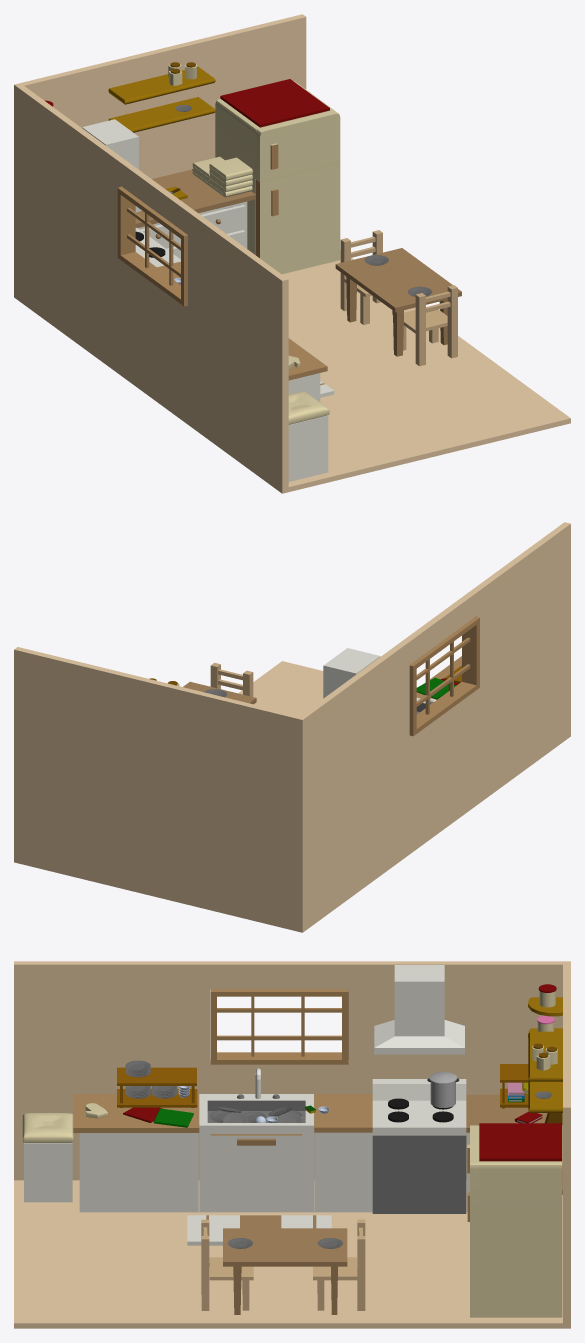
The model's file is kitchen.fbx.
3 renders of one model, top to bottom at view 1: azimuth 30°, elevation 25°; view 2: azimuth 150°, elevation 25°; view 3: azimuth 270°, elevation 25°, orthographic. The views are drawn at different scales.
Parts seen in each view (by area): view 1: pCube1, Kitchen_scene_group11_pCube7, pCube25, pCube8, Kitchen_scene_group12_group2_pCube18, pCube116, Kitchen_scene_group15_pCube26, pCube22, Kitchen_scene_group46_pCube118, pCube4, pCube5, Kitchen_scene_group9_pCube15 (+4 smaller); view 2: pCube1, pCube8, pCube17, Kitchen_scene_group15_pCube26; view 3: pCube1, Kitchen_scene_group11_pCube7, Kitchen_scene_group7_pCube21, Kitchen_scene_group9_pCube15, Kitchen_scene_group10_pCube19, Kitchen_scene_group8_pCube14, pCube17, pCube8, pCube25, pCube116, pCube22, pCube20 (+12 smaller).
Part boxes in pixels (left/top/right/bottom): pCube1: left=14, top=14, right=570, bottom=493; Kitchen_scene_group11_pCube7: left=215, top=81, right=340, bottom=274; pCube25: left=335, top=248, right=461, bottom=356; pCube8: left=117, top=187, right=187, bottom=306; Kitchen_scene_group12_group2_pCube18: left=135, top=169, right=255, bottom=259; pCube116: left=220, top=79, right=329, bottom=127; Kitchen_scene_group15_pCube26: left=403, top=285, right=457, bottom=366; pCube22: left=288, top=415, right=328, bottom=481; Kitchen_scene_group46_pCube118: left=192, top=156, right=252, bottom=197; pCube4: left=108, top=97, right=215, bottom=132; pCube5: left=108, top=66, right=215, bottom=104; Kitchen_scene_group9_pCube15: left=288, top=338, right=327, bottom=401; pCube1: left=14, top=522, right=570, bottom=932; pCube8: left=409, top=616, right=479, bottom=736; pCube17: left=323, top=648, right=380, bottom=698; Kitchen_scene_group15_pCube26: left=210, top=662, right=253, bottom=696; pCube1: left=14, top=961, right=570, bottom=1328; Kitchen_scene_group11_pCube7: left=467, top=1125, right=562, bottom=1317; Kitchen_scene_group7_pCube21: left=199, top=1068, right=313, bottom=1212; Kitchen_scene_group9_pCube15: left=73, top=1094, right=199, bottom=1212; Kitchen_scene_group10_pCube19: left=372, top=1079, right=466, bottom=1213; Kitchen_scene_group8_pCube14: left=314, top=1094, right=372, bottom=1212; pCube17: left=374, top=965, right=464, bottom=1054; pCube8: left=210, top=989, right=348, bottom=1064; pCube25: left=223, top=1228, right=347, bottom=1314; pCube116: left=479, top=1123, right=561, bottom=1161; pCube22: left=24, top=1143, right=72, bottom=1202; pCube20: left=187, top=1215, right=331, bottom=1245.
Size of the model in its own units: 13.52 by 9.41 by 21.49.
